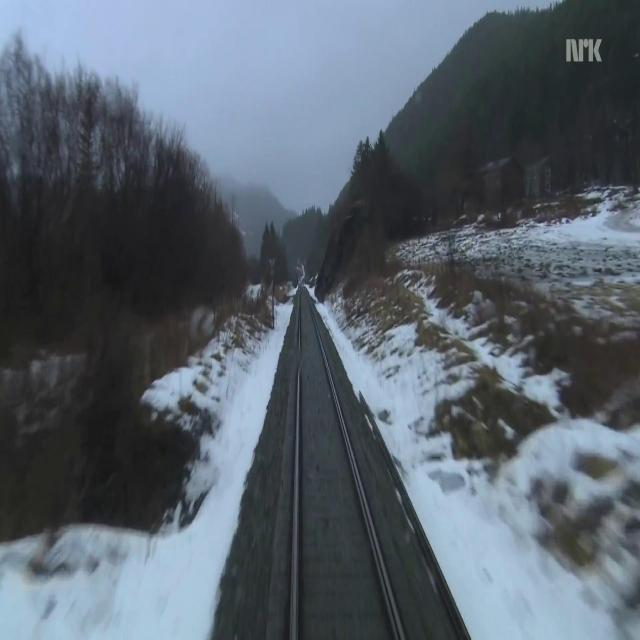rail-track: (297, 283, 400, 639)
